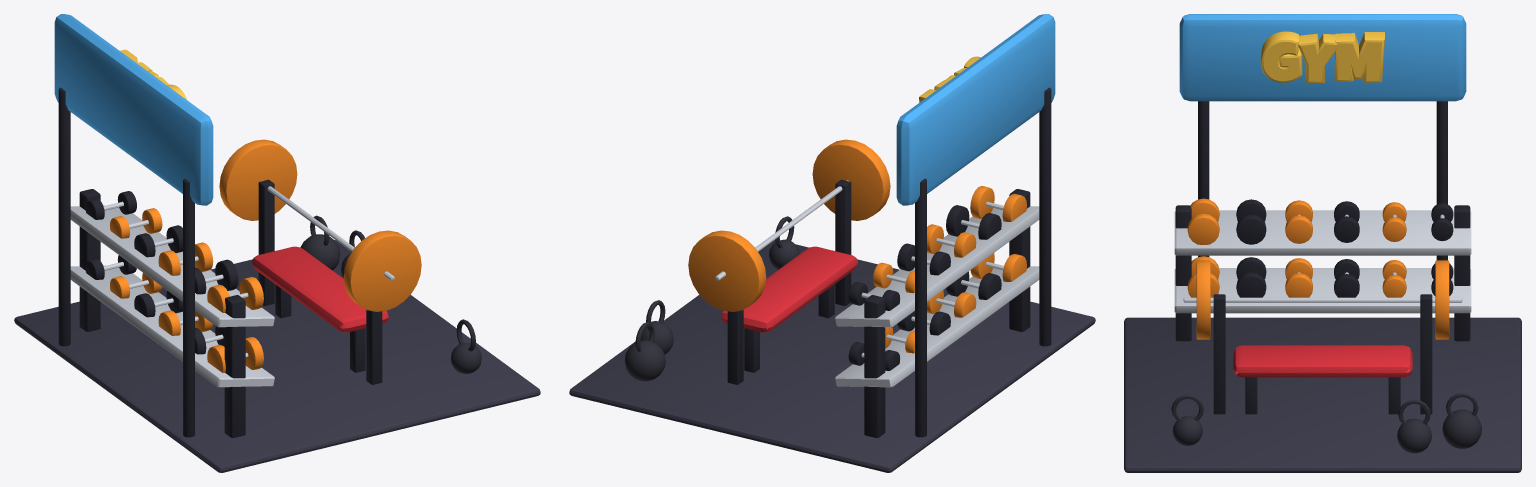
File: PlazaGym.fbx
3 views of the same model, side by side, from view 1: azimuth 30°, elevation 25°; view 2: azimuth 150°, elevation 25°; view 3: azimuth 270°, elevation 25° (orthographic). The views are drawn at different scales.
Visible parts, largest first — view 1: PlazaGym; view 2: PlazaGym; view 3: PlazaGym.
Boxes of the visible parts, x1,y1,x2,y2 form: PlazaGym: (14,14,540,472); PlazaGym: (569,14,1095,472); PlazaGym: (1124,14,1521,472).
Bounding box in the file's own units: 900 × 883 × 1000.
